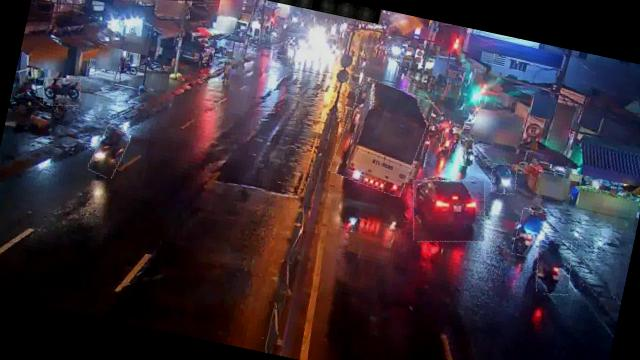Bike: (530, 236, 578, 297), (89, 124, 130, 179), (512, 208, 546, 259), (41, 73, 84, 110), (488, 160, 520, 197), (457, 137, 478, 167), (438, 127, 456, 158)
Car: (404, 169, 493, 252)
Truck: (332, 76, 434, 198)
